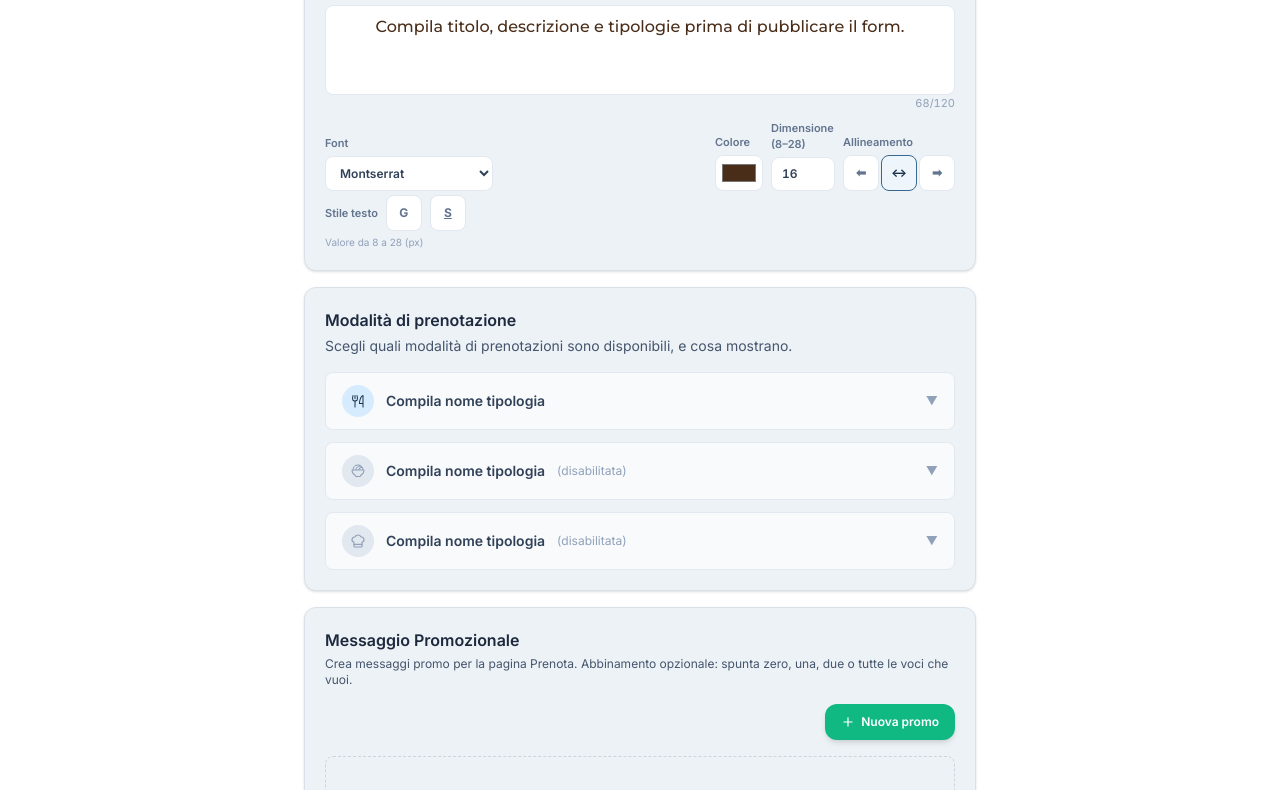
it: settings-form-config delete card/carosello › mostra modale dal cestino nell’editor (spostato in headerActions quando espanso)
The image size is (1280, 790).
(page scrolled)
What coordinates should you click on to do the following:
click the button "Compila nome tipologia ▼"
I would click on:
 (358, 401)
Its box is 326,373 -> 954,429.
(page scrolled)
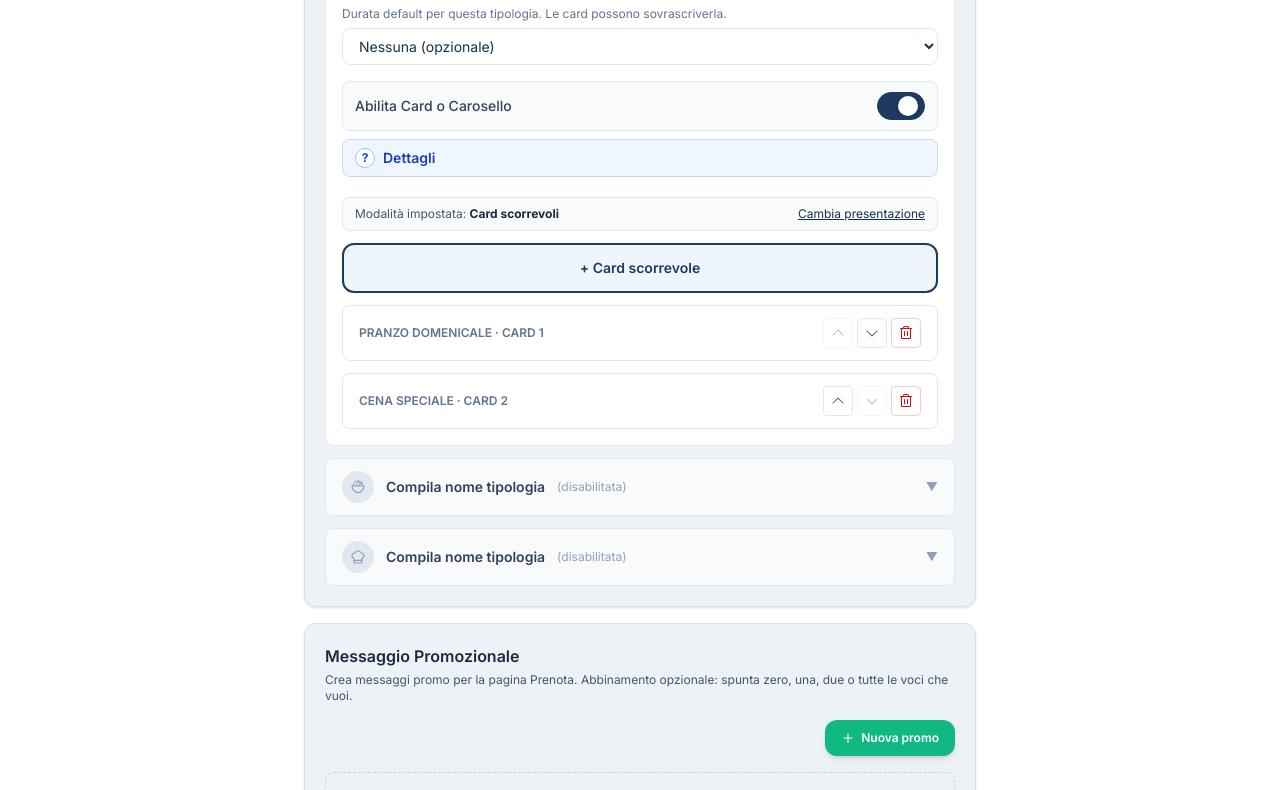
Expected: the text "Abilita Card o Carosello" is shown, 355,96 -> 512,116
Expected: the text "Cena speciale · Card 2" is shown, 359,393 -> 508,408
What coordinates should you click on to do the following:
click the button "Cena speciale · Card 2"
I would click on:
 (433, 400)
Its box is 359,393 -> 811,409.
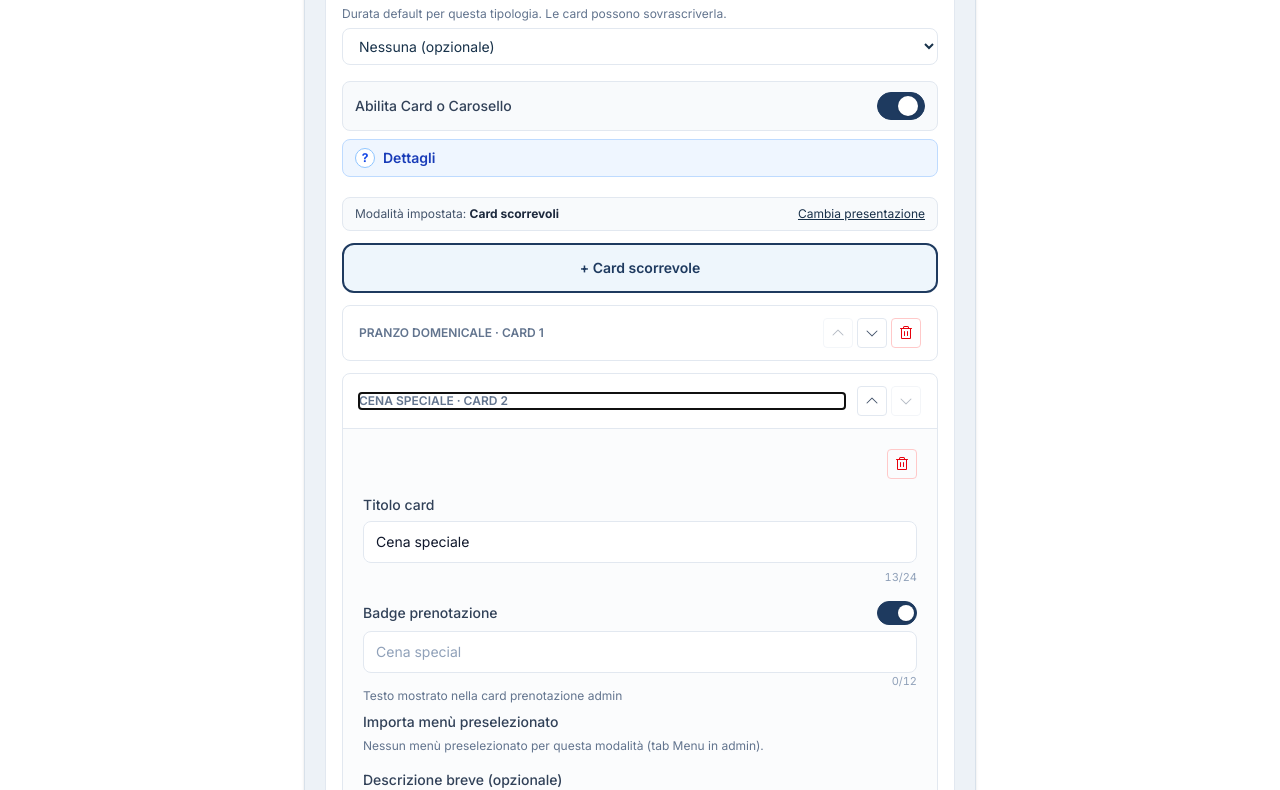
What coordinates should you click on to do the following:
click the button named "Elimina Cena speciale · Card 2"
I would click on:
 (902, 464)
Its box is 887,449 -> 917,479.
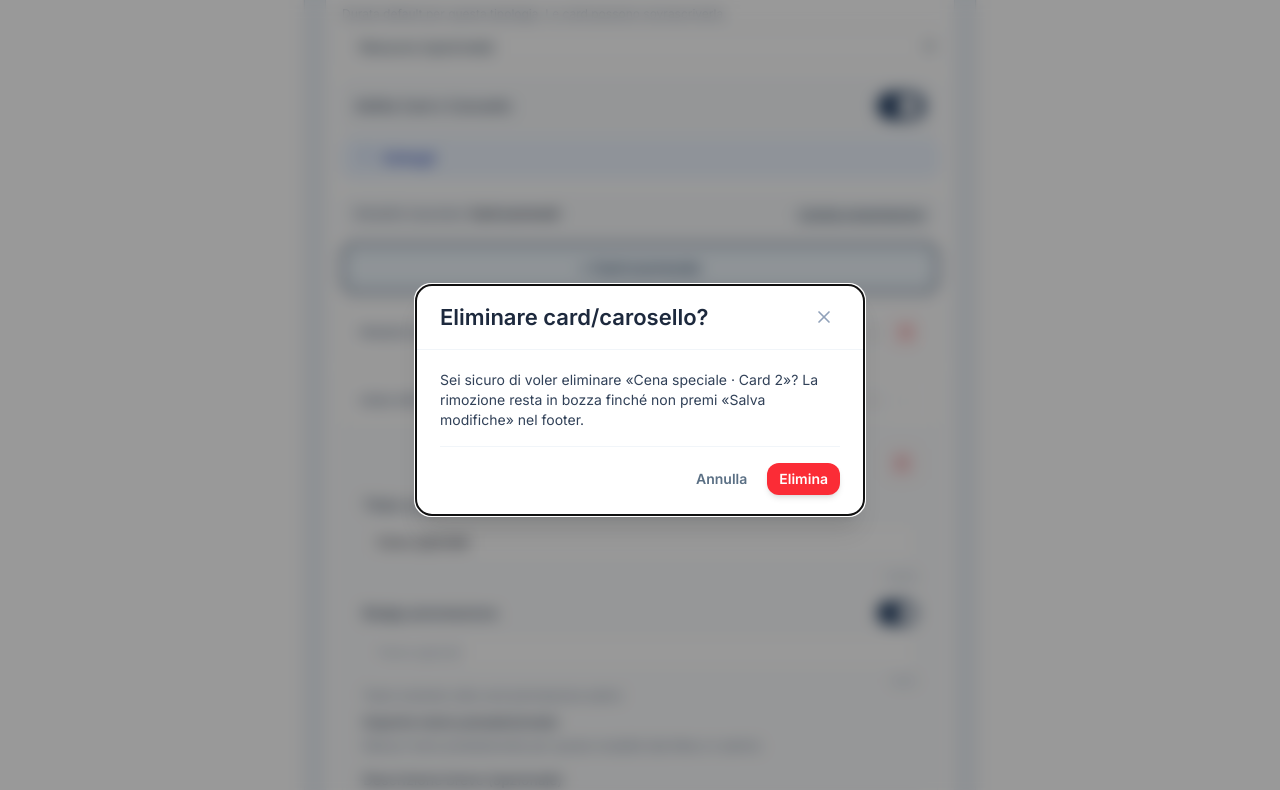
Expected: the text "Cena speciale · Card 2" is shown, 634,371 -> 783,388
What coordinates should you click on to do the following:
click the button "Elimina"
I would click on:
 (804, 479)
Its box is 767,463 -> 840,495.
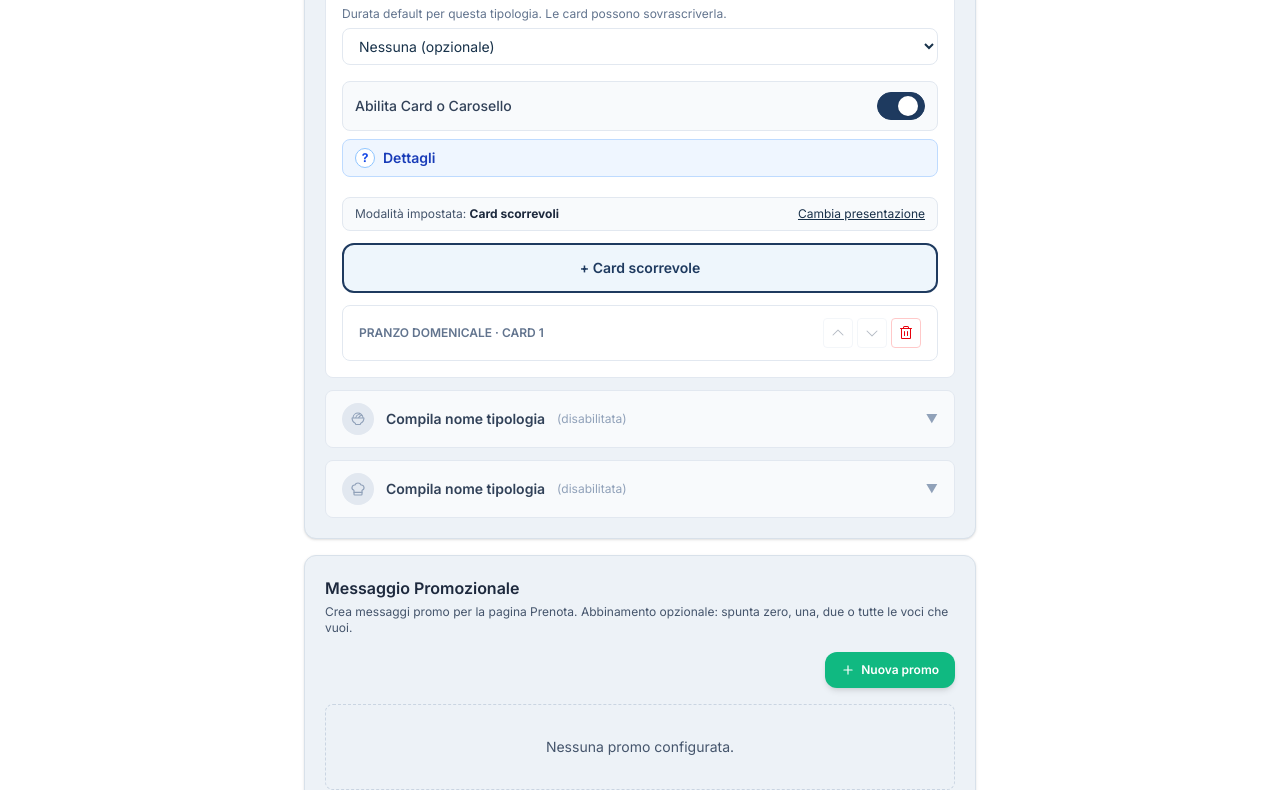
Expected: the text "Pranzo domenicale · Card 1" is shown, 359,325 -> 544,340
Expected: the button "Cena speciale · Card 2" is gone
